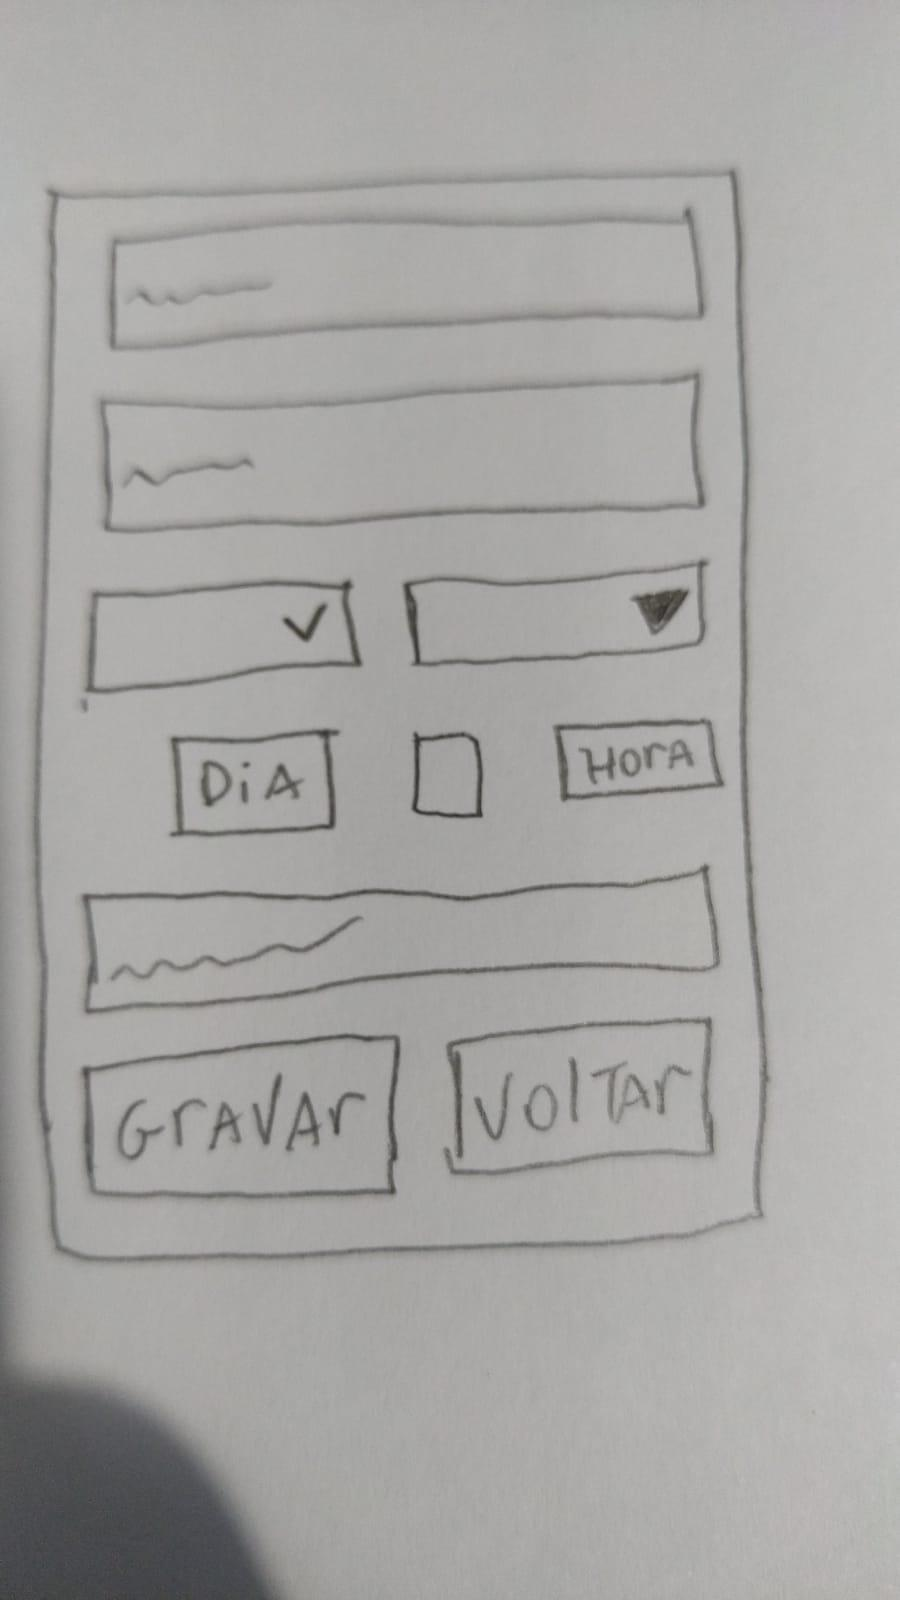Button: (82, 1032, 401, 1198), (442, 1018, 716, 1175), (167, 727, 342, 837), (554, 716, 723, 802), (409, 730, 488, 822)
ListPicker: (84, 577, 364, 694), (401, 560, 708, 665)
Screen: (36, 168, 767, 1264)
TextBox: (99, 371, 708, 533), (81, 865, 722, 1015), (108, 207, 706, 349)
